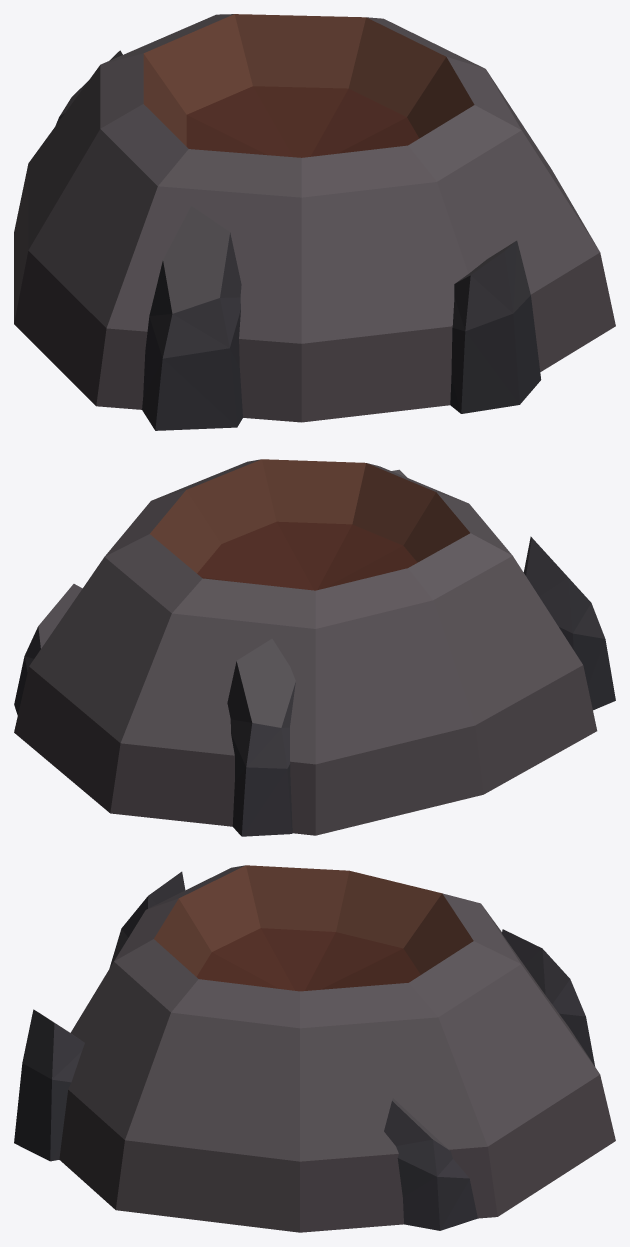
3 renders of one model, top to bottom at view 1: azimuth 30°, elevation 25°; view 2: azimuth 150°, elevation 25°; view 3: azimuth 270°, elevation 25°, orthographic. The views are drawn at different scales.
Parts seen in each view (by area): view 1: volcano-vent; view 2: volcano-vent; view 3: volcano-vent.
Boxes of the visible parts, bbox=[...] form: volcano-vent: bbox=[14, 14, 615, 430]; volcano-vent: bbox=[14, 459, 615, 836]; volcano-vent: bbox=[14, 865, 615, 1232].
Size of the model in its own units: 0.7535 by 0.29 by 0.8355.
